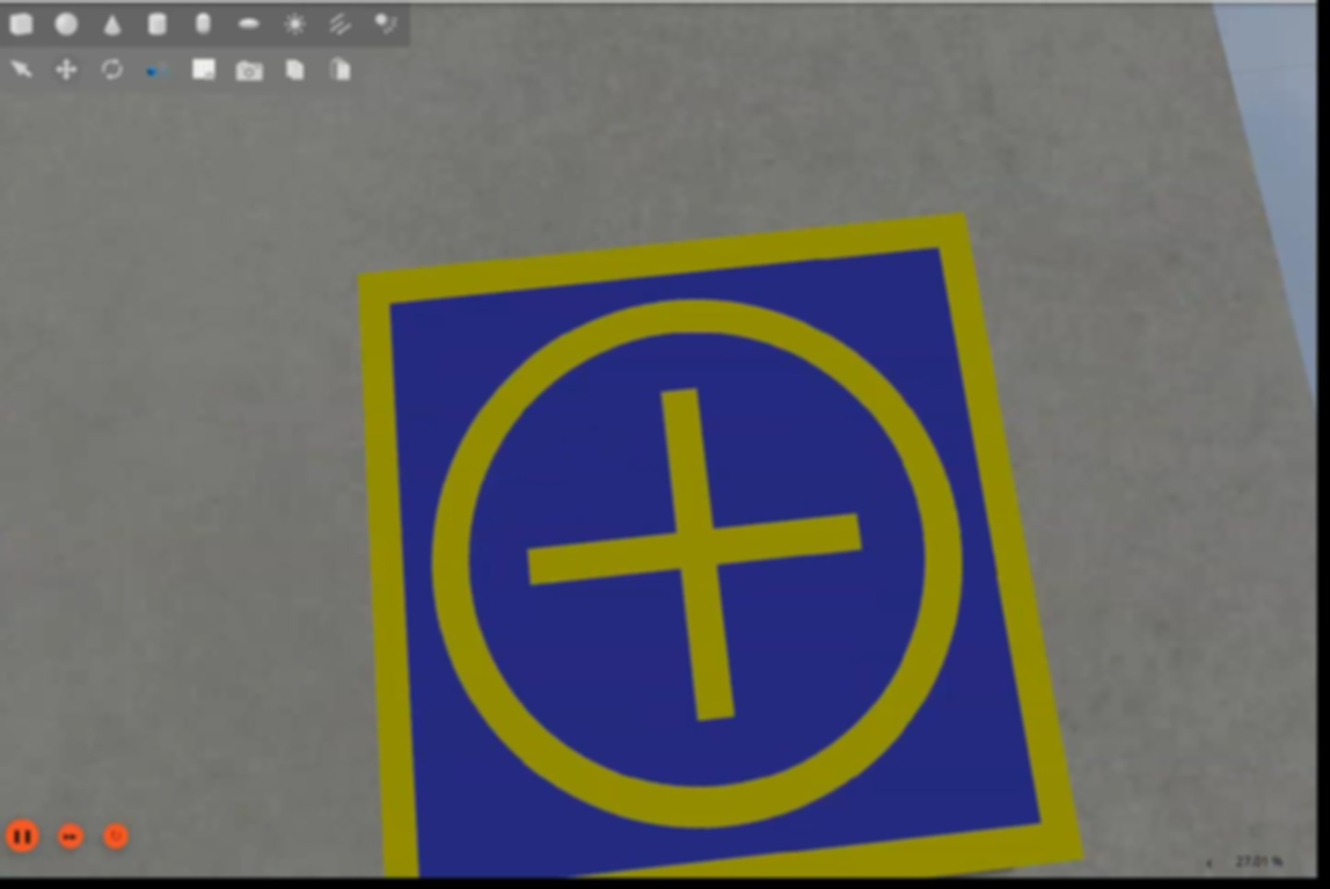small_base: (361, 213, 1087, 879)
